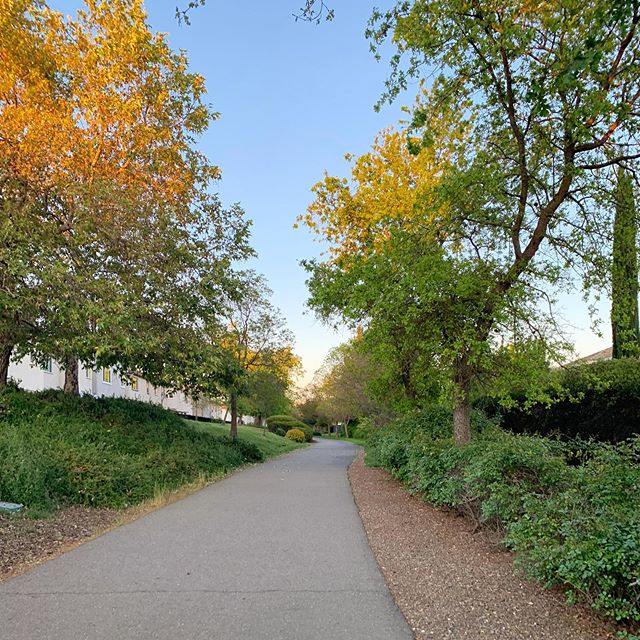sky: (159, 1, 415, 289)
street: (1, 439, 378, 640)
tree: (1, 1, 251, 392), (447, 1, 640, 389), (289, 157, 463, 407)
vegetation: (396, 412, 640, 640), (1, 393, 253, 497)
